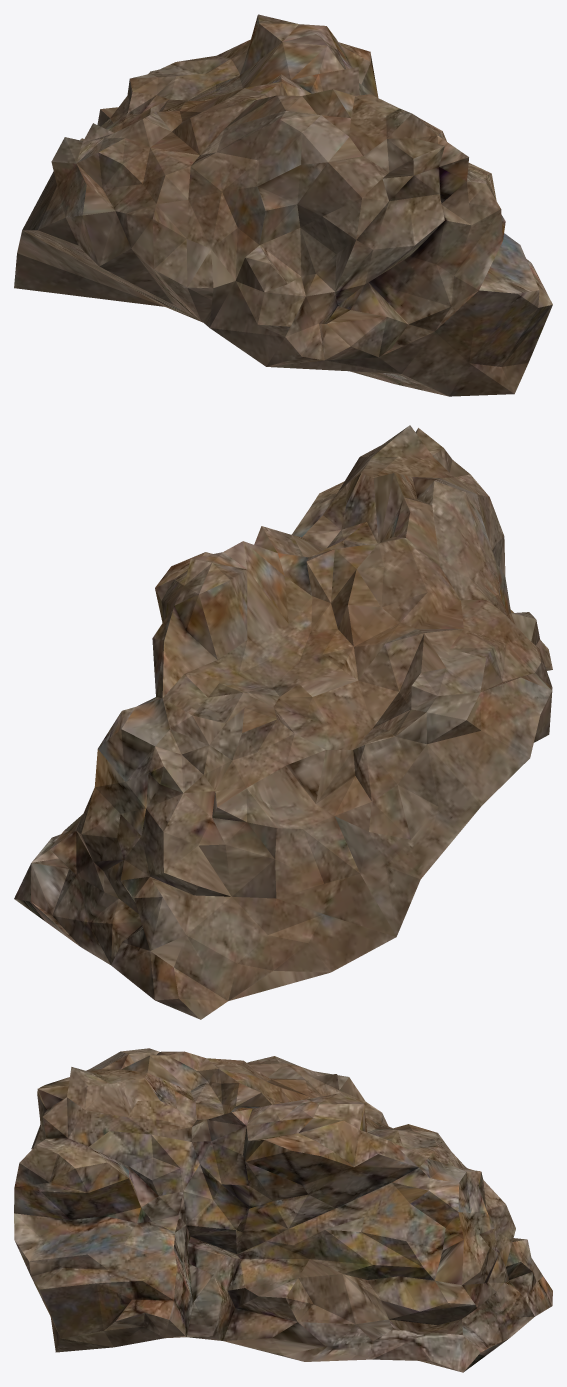
Rendered from roche_lichen.glb.
The picture shows the model from 3 angles, top to bottom: view 1: azimuth 30°, elevation 25°; view 2: azimuth 150°, elevation 25°; view 3: azimuth 270°, elevation 25°; orthographic projection. The views are drawn at different scales.
Parts seen in each view (by area): view 1: roche1_corps; view 2: roche1_corps; view 3: roche1_corps.
Boxes of the visible parts, bbox=[...] form: roche1_corps: bbox=[14, 14, 552, 396]; roche1_corps: bbox=[14, 425, 552, 1019]; roche1_corps: bbox=[14, 1048, 552, 1372].
Bounding box in the file's own units: 1.28 × 1 × 1.79.
1 material, 1 textured.
